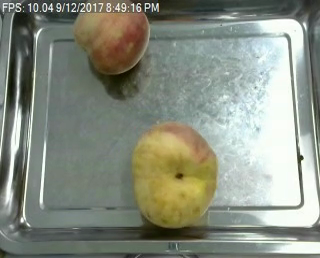Peach: (132, 120, 217, 229), (72, 0, 150, 74)
